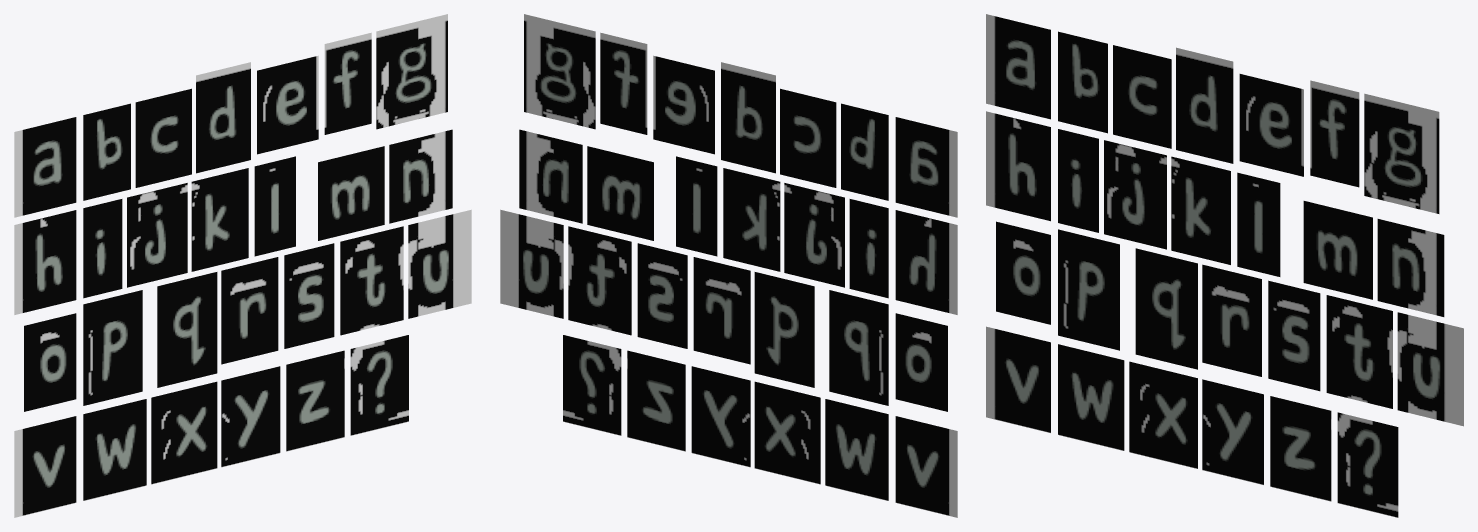
Rendered from Font White.FBX.
3 views of the same model, side by side, from view 1: azimuth 30°, elevation 25°; view 2: azimuth 150°, elevation 25°; view 3: azimuth 330°, elevation 25° (orthographic). The views are drawn at different scales.
Parts seen in each view (by area): view 1: g, q, p, t, u, x, h, w, j, v, r, a (+15 smaller); view 2: g, q, p, t, u, x, h, w, j, v, r, a (+15 smaller); view 3: g, q, p, t, u, x, h, w, d, j, v, r (+15 smaller).
Part boxes in pixels (box(x1,y1,x2,y2)): g: box(376, 14, 447, 129); q: box(157, 272, 217, 387); p: box(83, 290, 142, 405); t: box(340, 226, 403, 335); u: box(408, 209, 471, 318); x: box(151, 381, 217, 484); h: box(14, 210, 76, 314); w: box(83, 399, 146, 500); j: box(127, 183, 187, 287); v: box(14, 416, 76, 517); r: box(221, 257, 278, 364); a: box(14, 117, 76, 217); g: box(524, 14, 595, 129); q: box(754, 272, 814, 387); p: box(829, 290, 888, 405); t: box(568, 226, 631, 335); u: box(500, 209, 563, 318); x: box(754, 381, 820, 484); h: box(895, 210, 957, 314); w: box(825, 399, 888, 500); j: box(784, 183, 844, 287); v: box(895, 416, 957, 517); r: box(693, 257, 750, 364); a: box(895, 117, 957, 217); g: box(1364, 93, 1439, 213); q: box(1135, 248, 1197, 369); p: box(1058, 229, 1119, 350); t: box(1326, 295, 1392, 408); u: box(1397, 312, 1463, 426); x: box(1129, 361, 1197, 468); h: box(986, 111, 1050, 221); w: box(1058, 344, 1124, 450); d: box(1176, 47, 1233, 163); j: box(1104, 140, 1166, 249); v: box(986, 326, 1050, 432); r: box(1202, 264, 1261, 376).
Size of the model in its own units: 157 by 2.18e-05 by 131.
